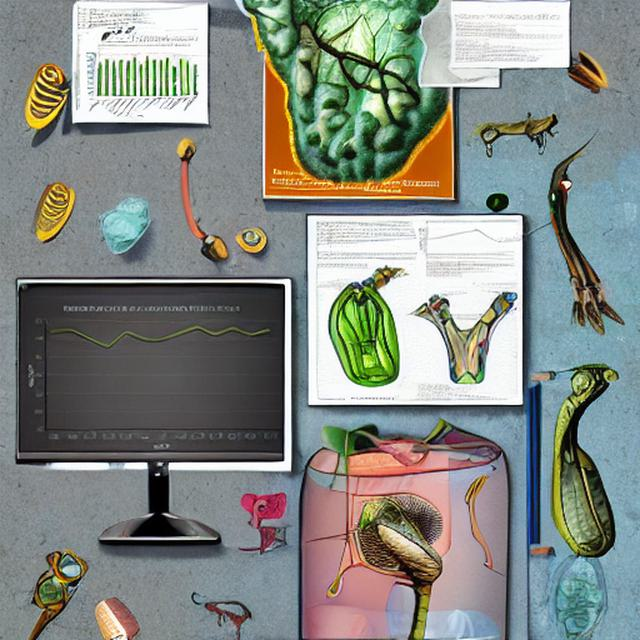Graph: (21, 300, 285, 452), (74, 42, 203, 120), (417, 220, 495, 262)
